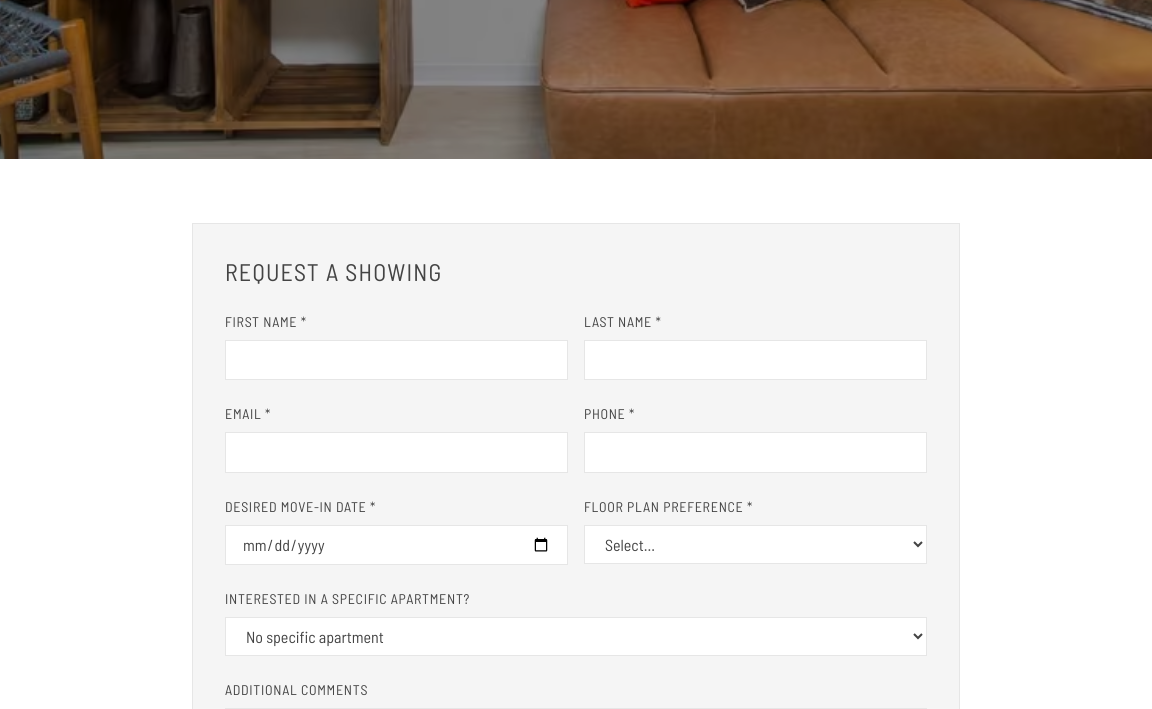
Test: ScheduleTour post-submit states label-in-name (WCAG 2.5.3) › error notice when the tour request fails
(page scrolled)
In the field labelled "First Name *": (396,360) [225,340,568,380], type "Ada"
In the field labelled "Last Name *": (756,360) [584,340,927,380], type "Lovelace"
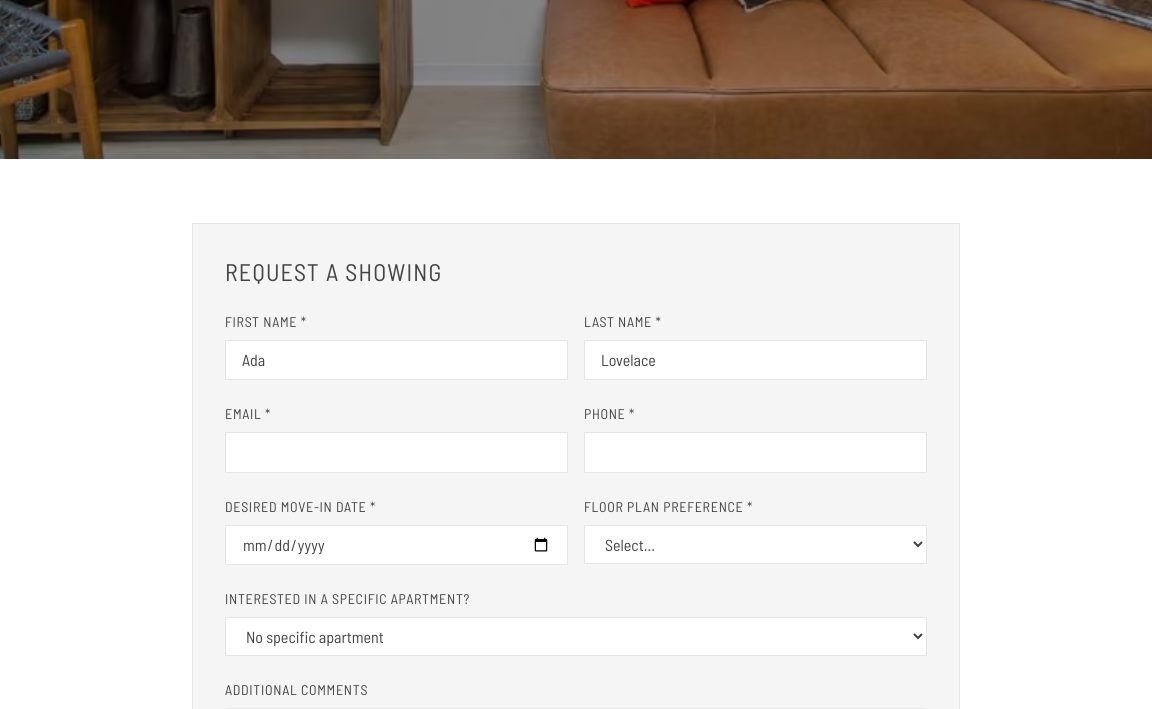
In the field labelled "Email *": (396,453) [225,432,568,473], type "ada@example.com"
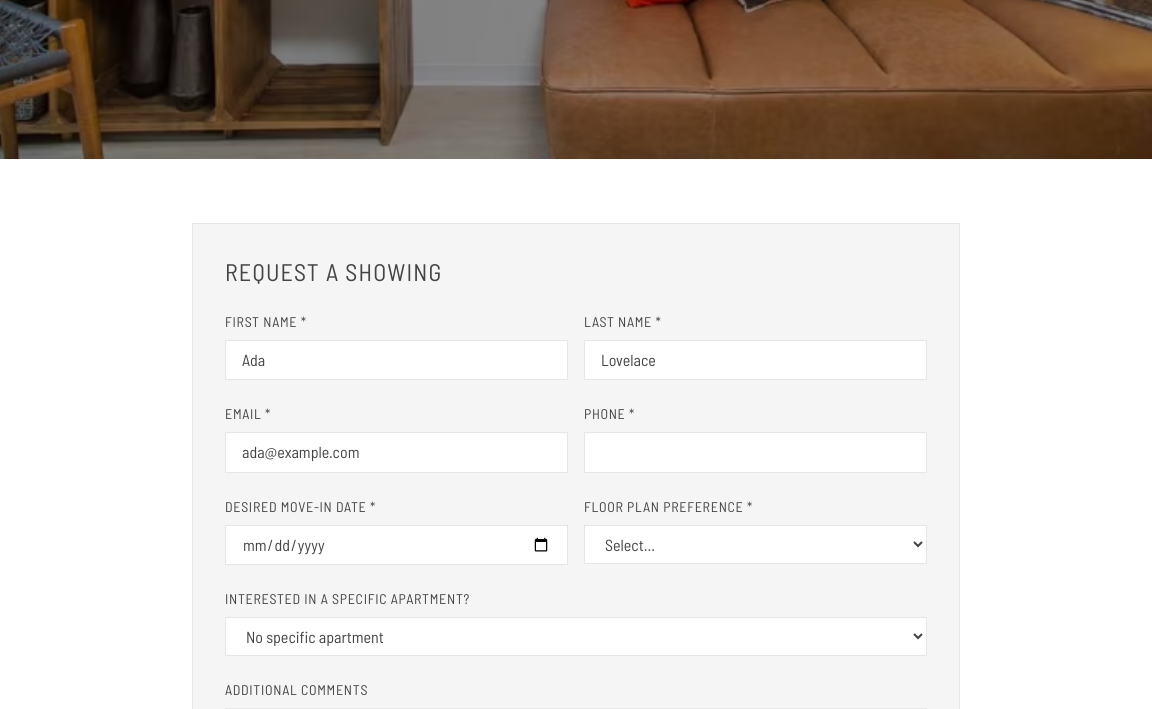
In the field labelled "Phone *": (756,453) [584,432,927,473], type "3125550123"
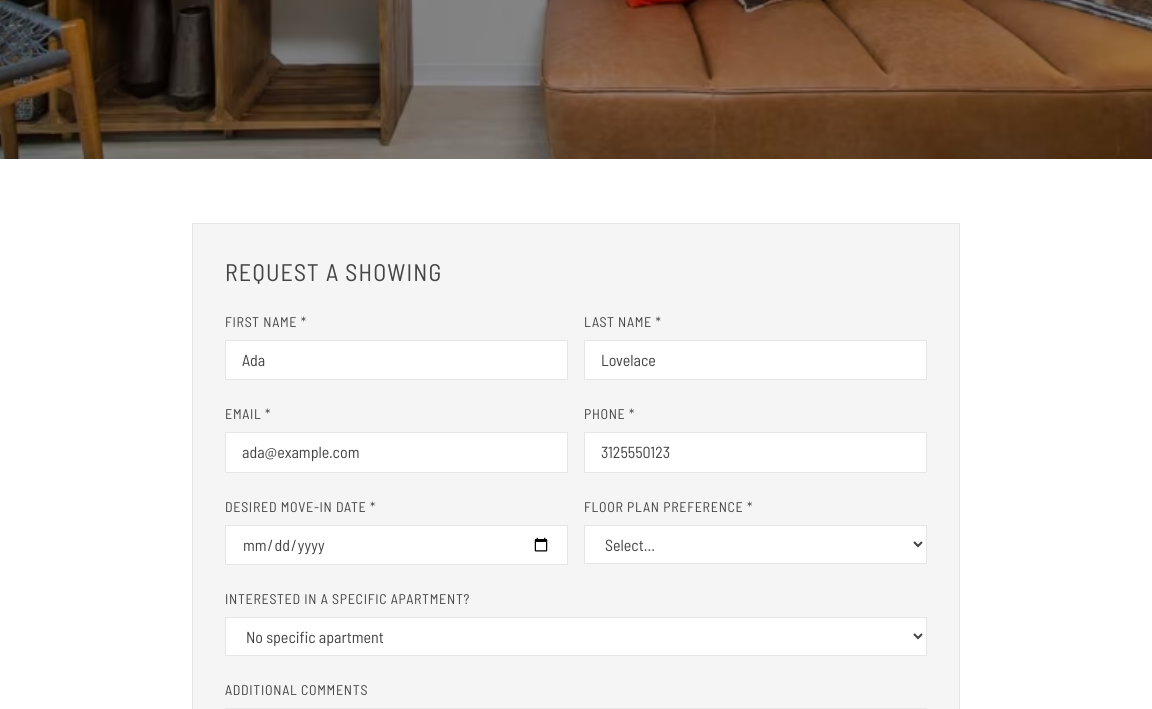
In the date field labelled "Desired Move-In Date *": (396,545) [225,525,568,565], type "2026-08-01"
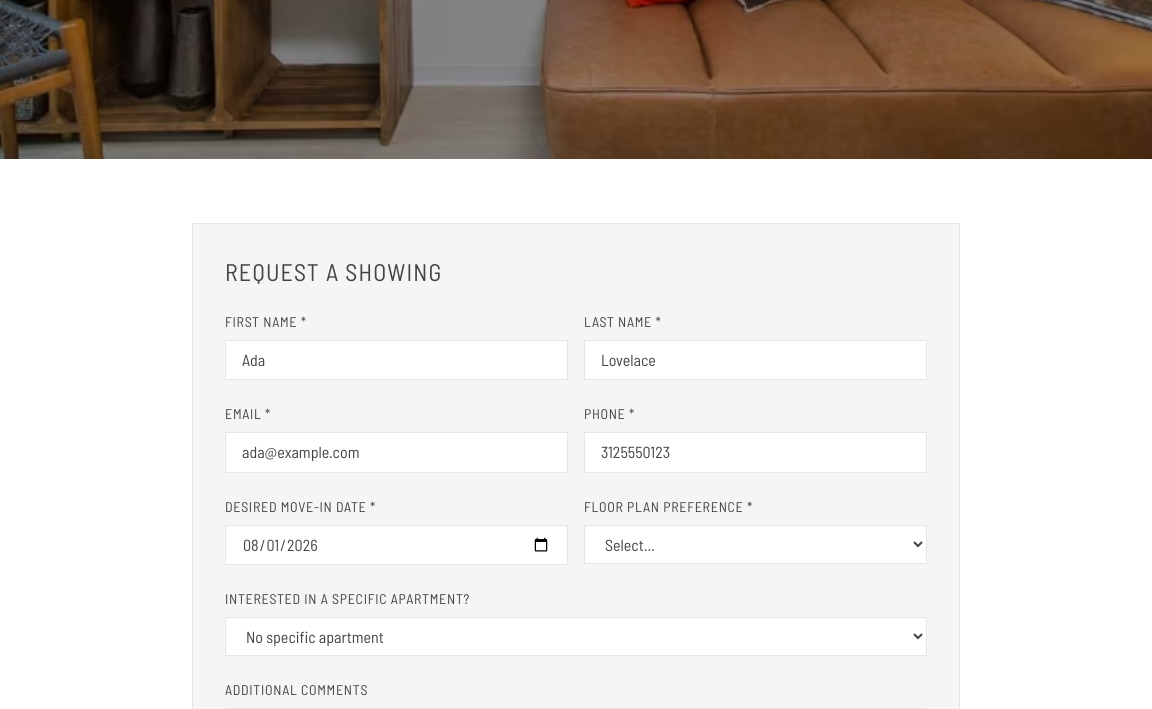
Select "1 Bedroom" in the dropdown labelled "Floor Plan Preference *": (756,544) [584,525,927,564]
(page scrolled)
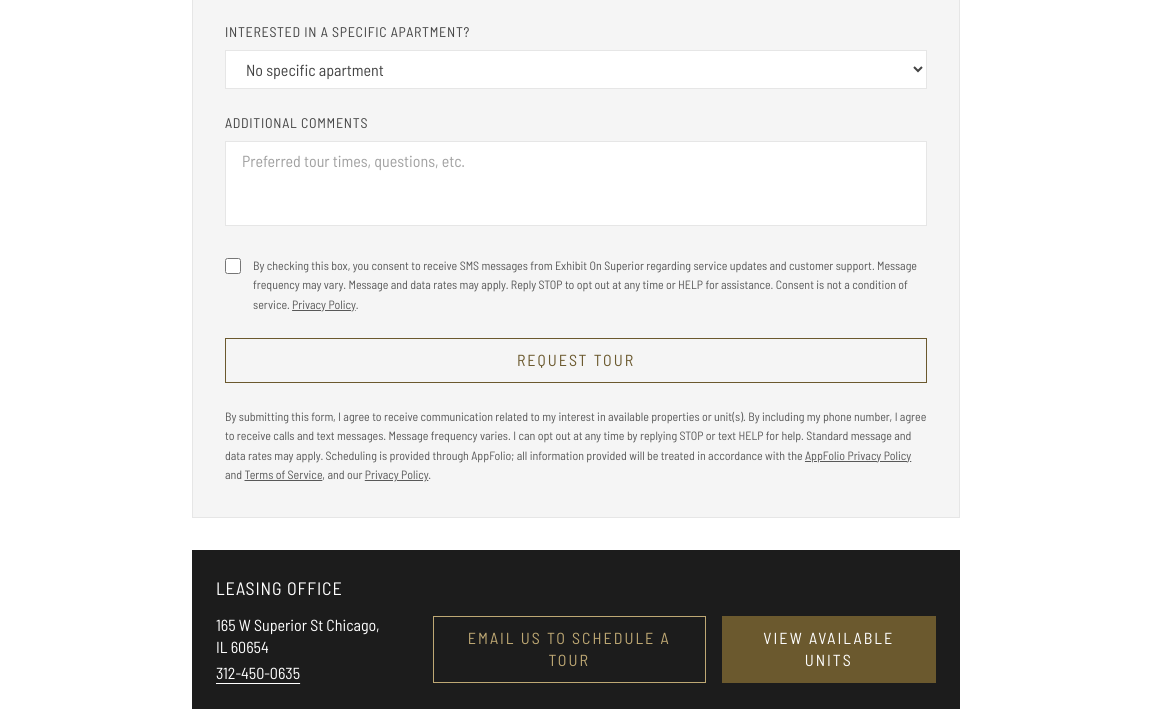
Click the button "Request Tour": (576,360) [225,338,927,383]
(page scrolled)
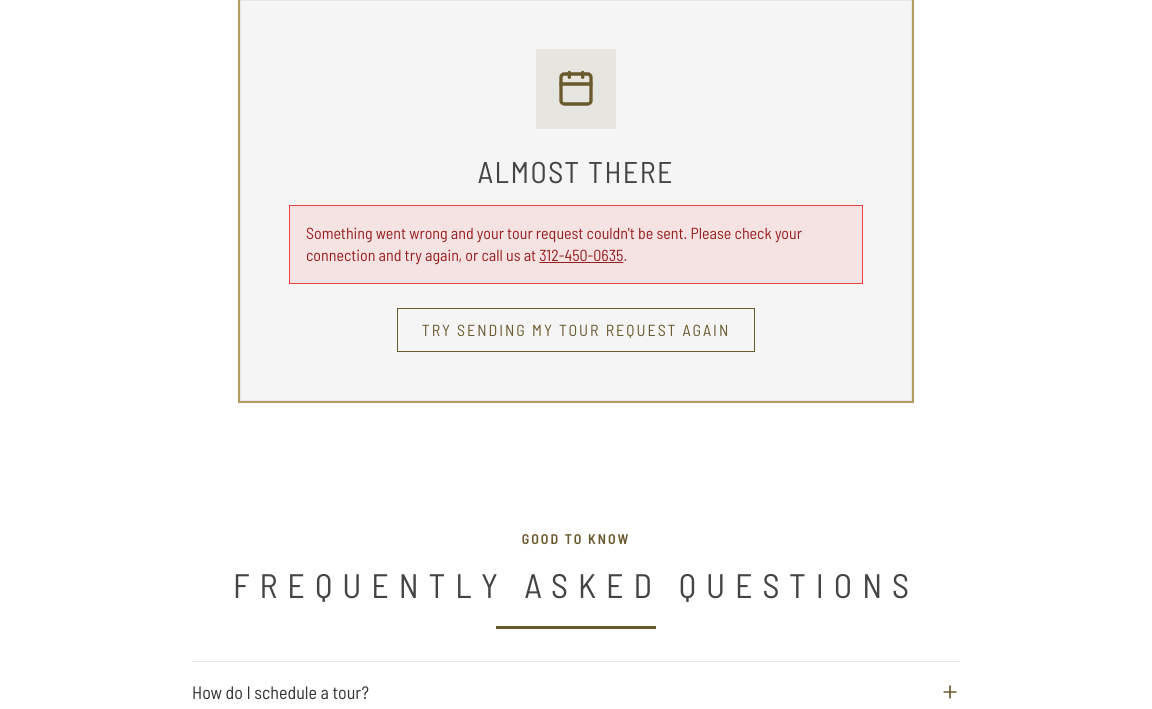
expect the message is shown: met, box [289,205,863,284]
